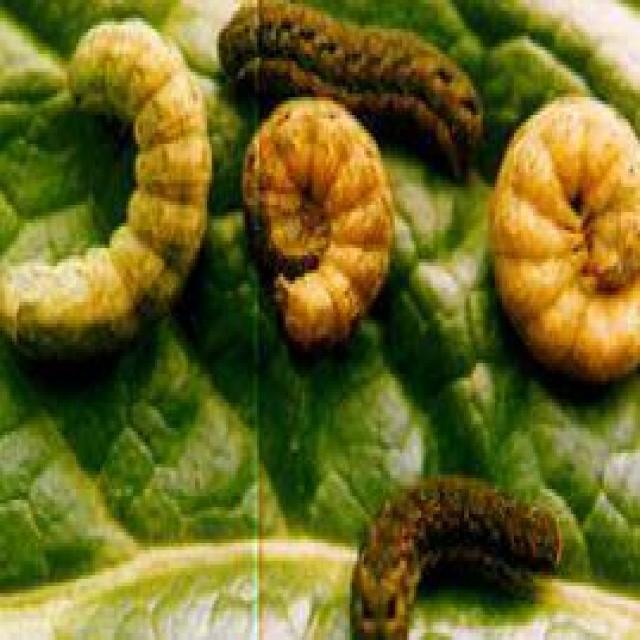armyworm: (7, 5, 204, 369), (241, 88, 403, 345), (496, 91, 640, 378), (223, 1, 489, 147), (348, 458, 569, 629)
